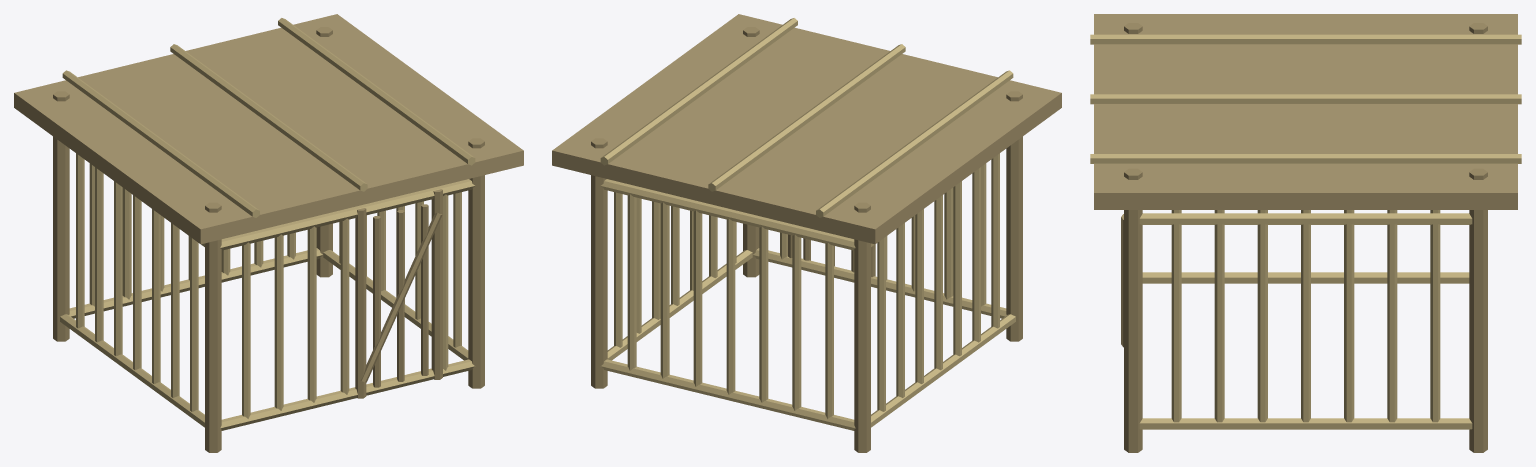
Rendered from pow_cage.glb.
3 views of the same model, side by side, from view 1: azimuth 30°, elevation 25°; view 2: azimuth 150°, elevation 25°; view 3: azimuth 270°, elevation 25° (orthographic). The views are drawn at different scales.
Visible parts, largest first — view 1: pow_cage-col; view 2: pow_cage-col; view 3: pow_cage-col.
Part boxes in pixels (x1,y1,x2,y2): pow_cage-col: (14, 14, 523, 452); pow_cage-col: (552, 14, 1061, 452); pow_cage-col: (1090, 14, 1521, 452).
Bounding box in the file's own units: 2.7 × 1.99 × 2.75.
